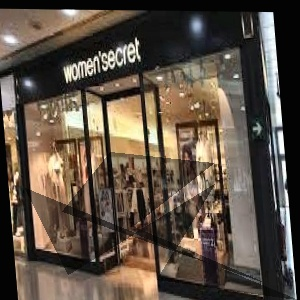women_secret: (78, 49, 224, 74)
